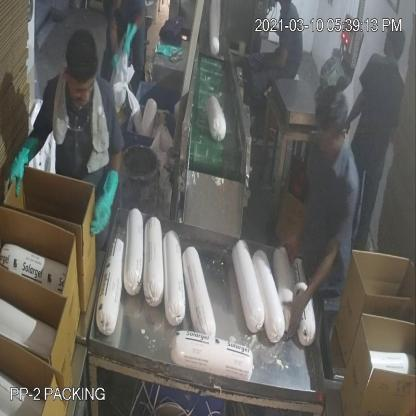glove: (5, 126, 44, 204), (87, 158, 123, 242)
no_glove: (281, 242, 342, 350)
